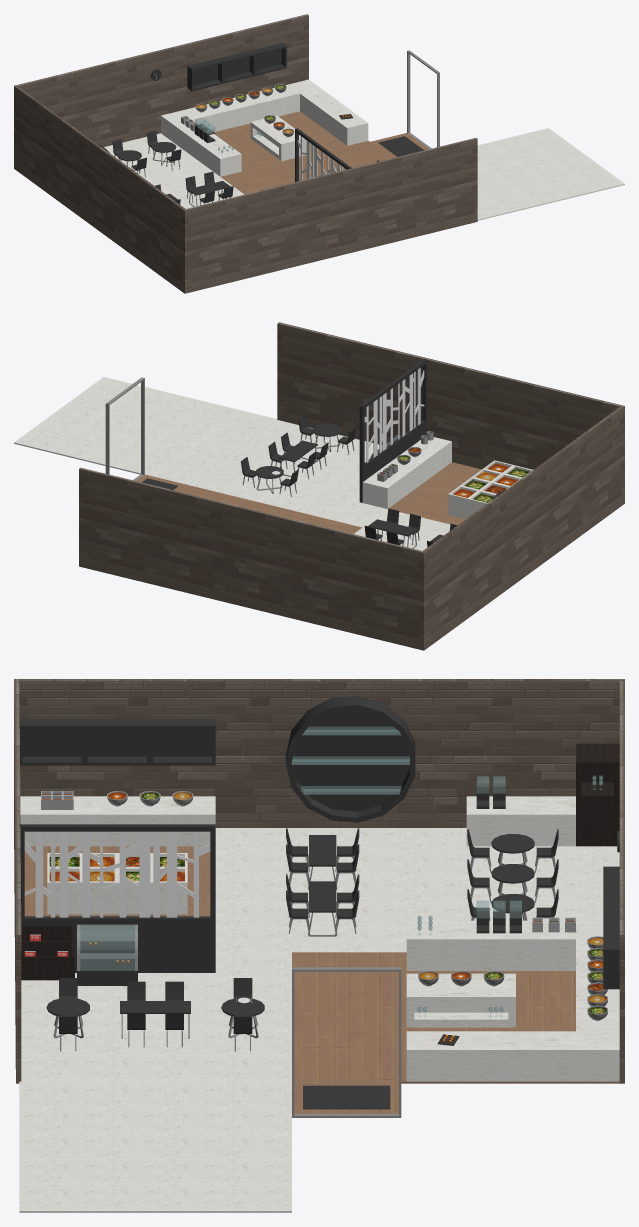
Rendered from restaurant.glb.
The picture shows the model from 3 angles, top to bottom: view 1: azimuth 30°, elevation 25°; view 2: azimuth 150°, elevation 25°; view 3: azimuth 270°, elevation 25°; orthographic projection. The views are drawn at different scales.
Bounding box in the file's own units: 32.89 × 5.91 × 22.04.
19 materials, 12 textured.
